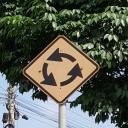Rotatoria: (22, 33, 100, 104)
